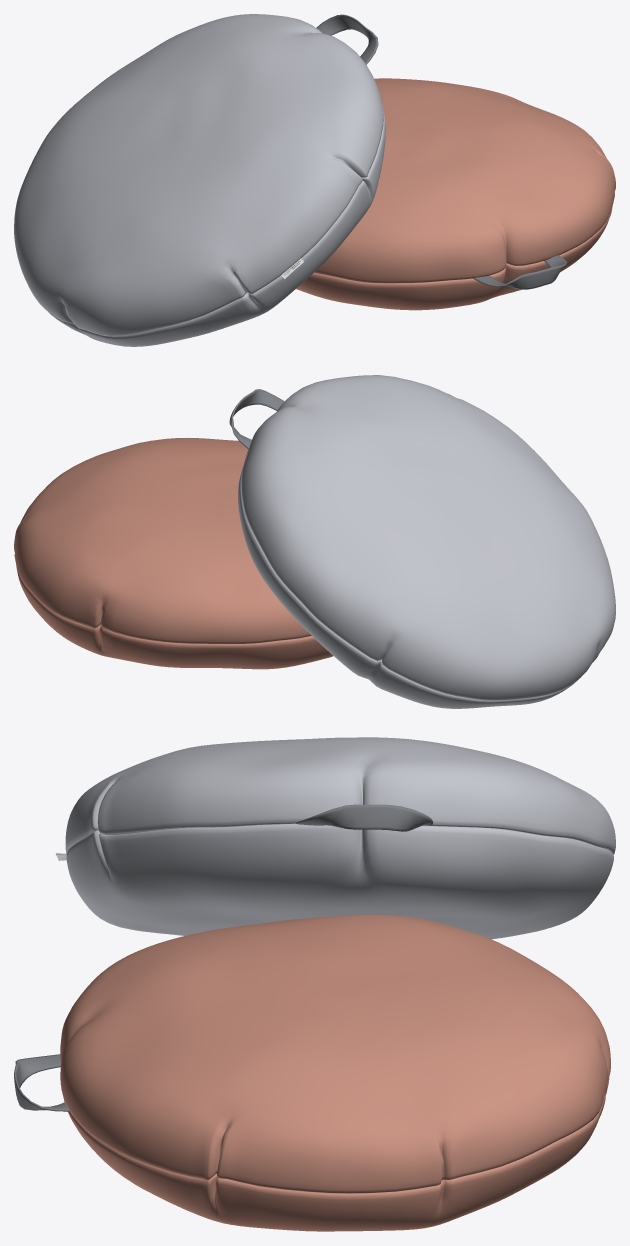
The picture shows the model from 3 angles, top to bottom: view 1: azimuth 30°, elevation 25°; view 2: azimuth 150°, elevation 25°; view 3: azimuth 270°, elevation 25°; orthographic projection. The views are drawn at different scales.
Parts seen in each view (by area): view 1: Cube.007, Cube.001, Plane.003; view 2: Cube.007, Cube.001, Plane.003; view 3: Cube.001, Cube.007, Plane.003.
Part boxes in pixels (x1,y1,x2,y2): Cube.007: [14, 14, 385, 346]; Cube.001: [296, 78, 615, 310]; Plane.003: [316, 14, 566, 289]; Cube.007: [238, 375, 615, 708]; Cube.001: [14, 438, 333, 669]; Plane.003: [229, 389, 284, 449]; Cube.001: [60, 915, 610, 1231]; Cube.007: [65, 737, 615, 939]; Plane.003: [14, 804, 433, 1111].
Size of the model in its own units: 0.7131 by 0.2976 by 0.5024.
